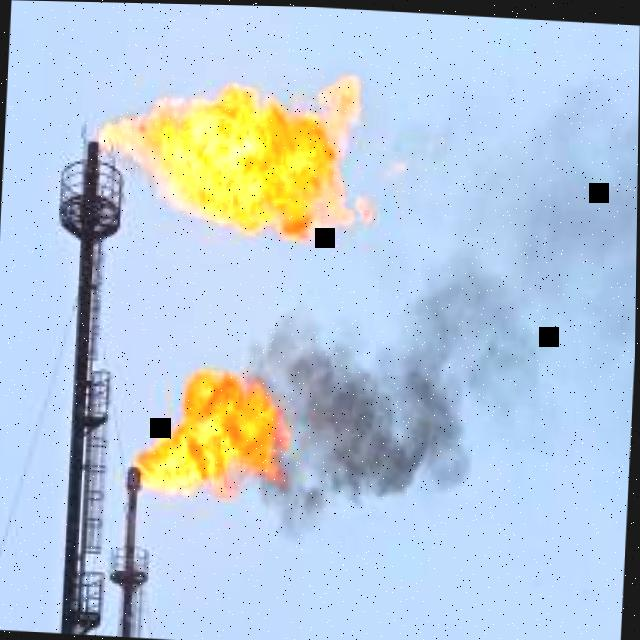fire: (92, 72, 355, 234)
smoke: (237, 66, 639, 546)
